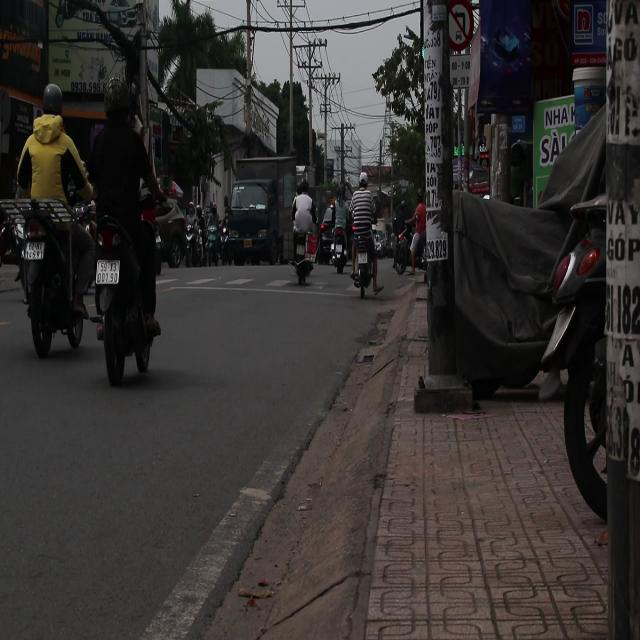car: (156, 200, 190, 268)
motorbike: (11, 194, 99, 357), (89, 199, 158, 382), (287, 200, 323, 304), (348, 215, 385, 306), (326, 200, 351, 279)
truck: (224, 154, 297, 266)
